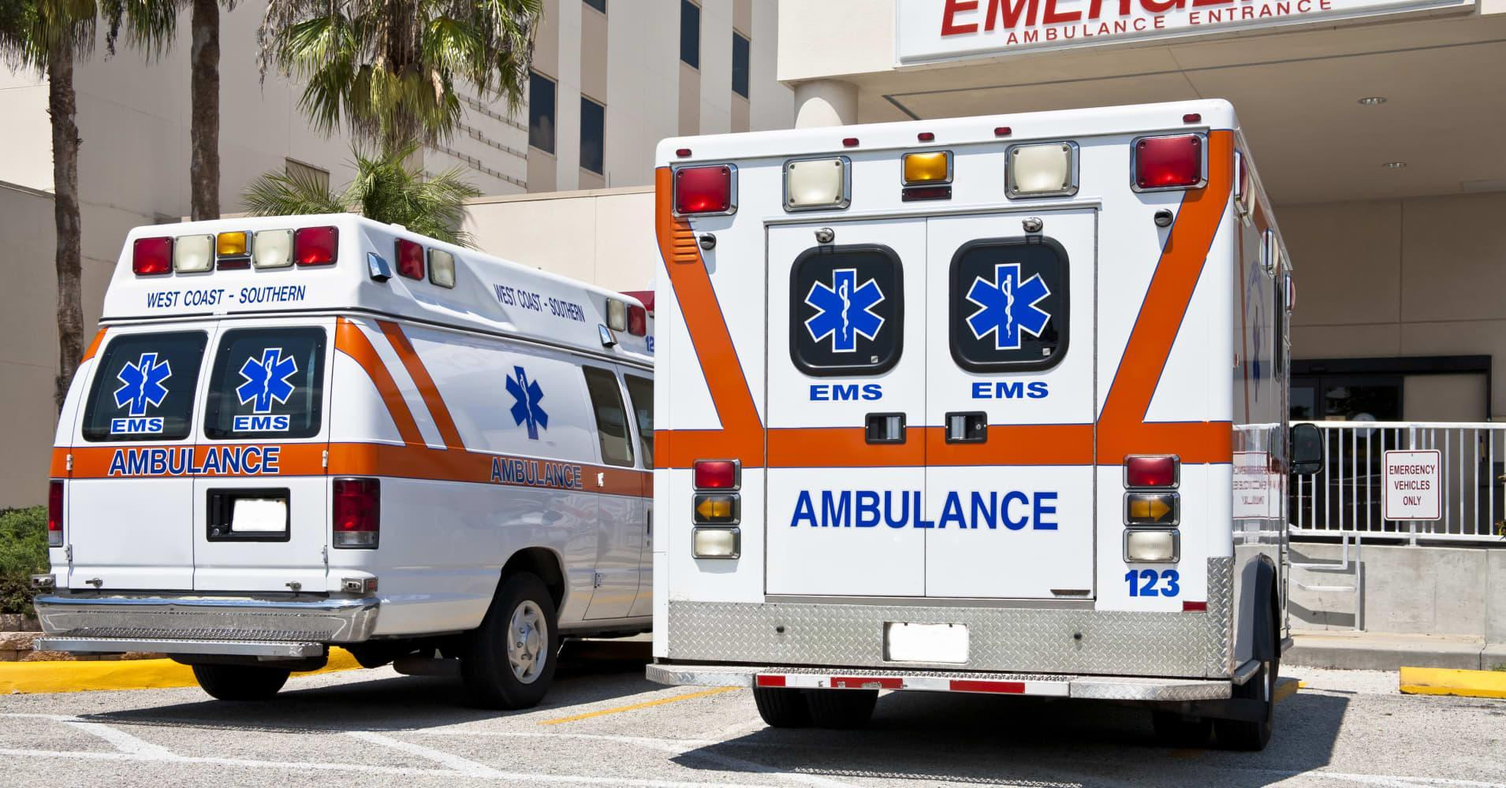Ambulance: (789, 475, 1070, 555), (962, 245, 1066, 370), (797, 253, 890, 365), (103, 442, 292, 491), (497, 353, 570, 449), (107, 339, 177, 439), (237, 337, 298, 421)
